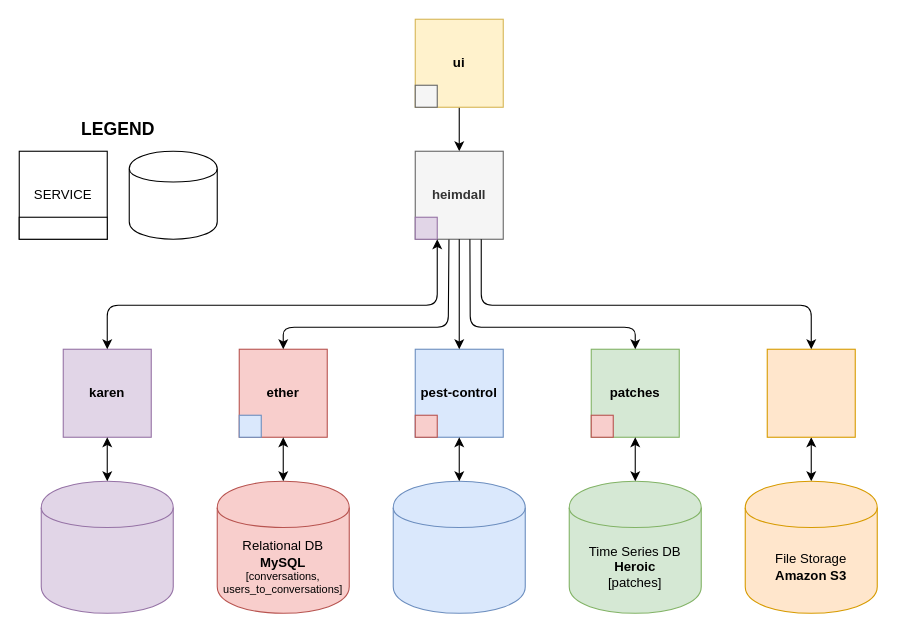
The diagram is 897 pixels wide and 633 high, and some of its shapes have lost their labels. Each missing label, with the centre of its shape:
"DATASTORE [tables]" goes at pixel 172 194.
"Dependencies" goes at pixel 62 227.
"Document DB MongoDB [preferences]" goes at pixel 458 546.
"images" goes at pixel 810 392.
"Relational DB MySQL [users]" goes at pixel 106 546.
